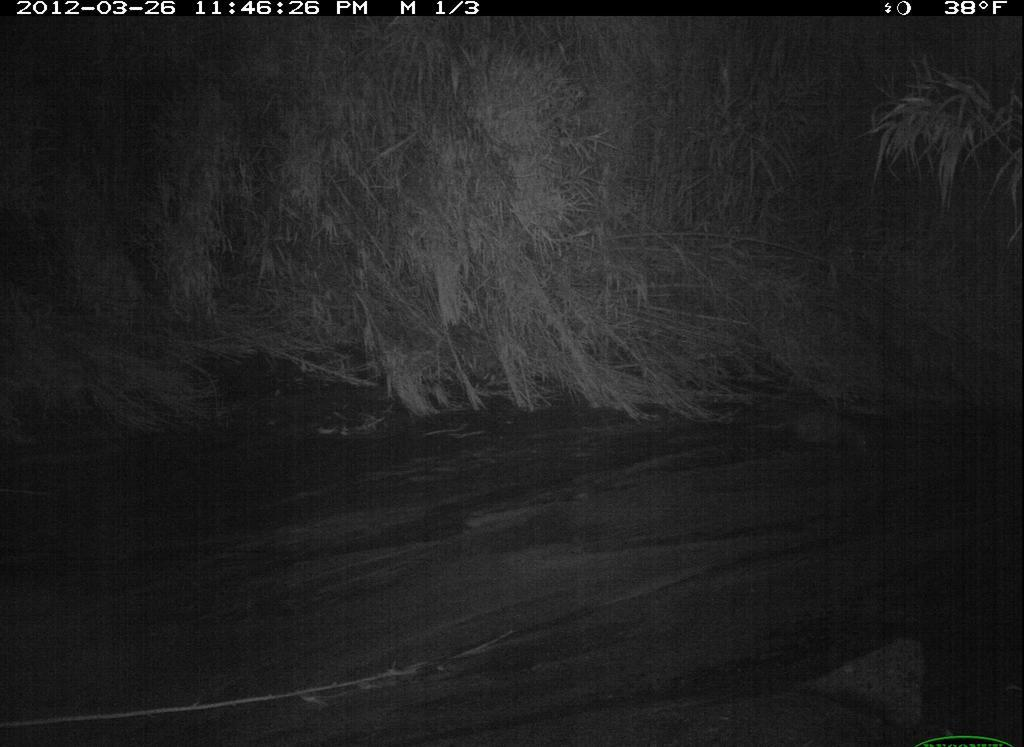opossum: (729, 400, 881, 464)
